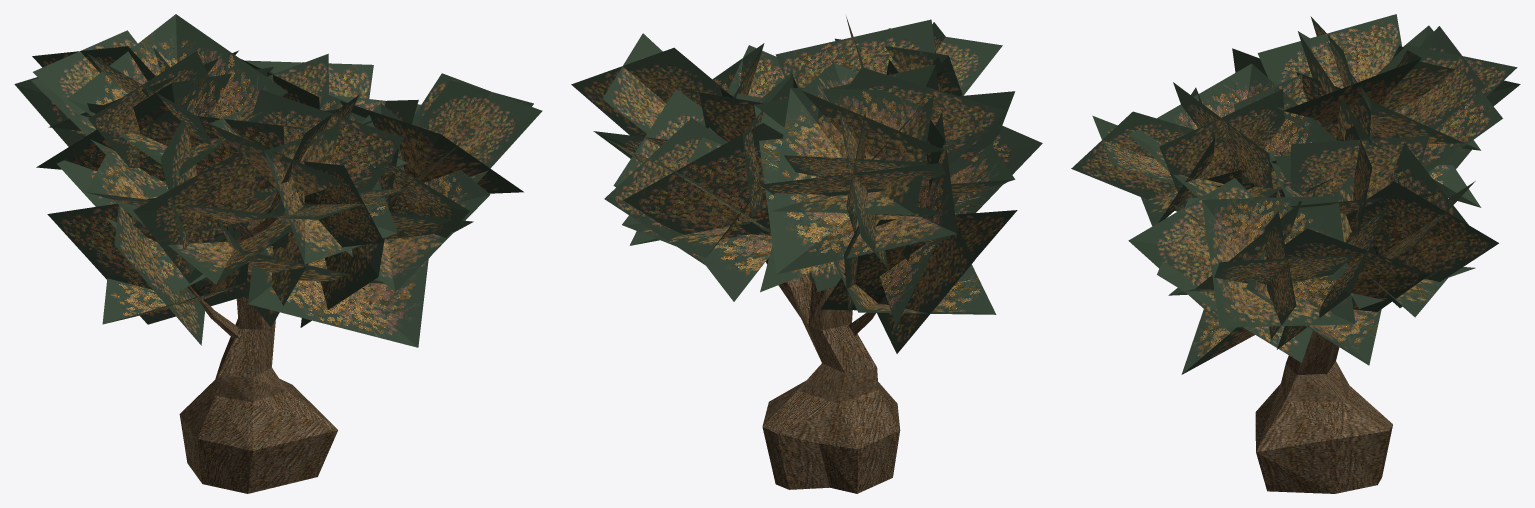
File: decd_oaktreeleaves_l1.fbx
3 views of the same model, side by side, from view 1: azimuth 30°, elevation 25°; view 2: azimuth 150°, elevation 25°; view 3: azimuth 270°, elevation 25° (orthographic). The views are drawn at different scales.
Visible parts, largest first — view 1: mesh_node; view 2: mesh_node; view 3: mesh_node.
Boxes of the visible parts, box(x1,y1,x2,y2) form: mesh_node: box(14, 14, 542, 493); mesh_node: box(571, 16, 1042, 493); mesh_node: box(1071, 14, 1520, 493).
Bounding box in the file's own units: 22.25 × 20.06 × 20.23.
3 materials, 3 textured.
